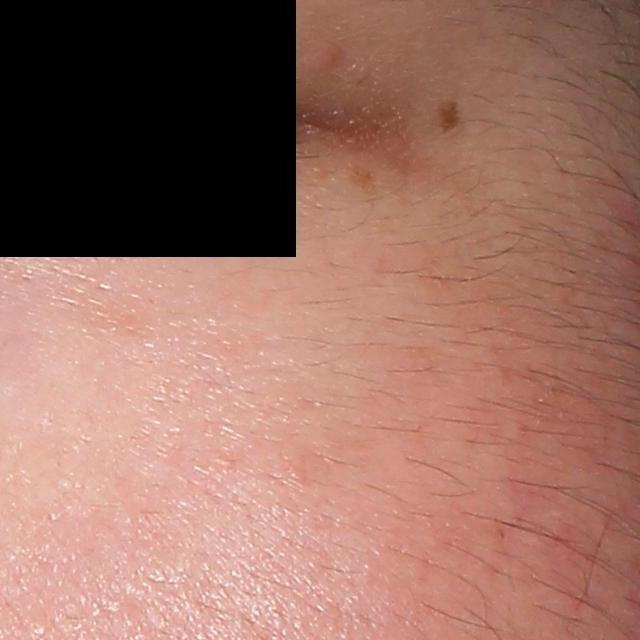nevus: (434, 92, 471, 141)
